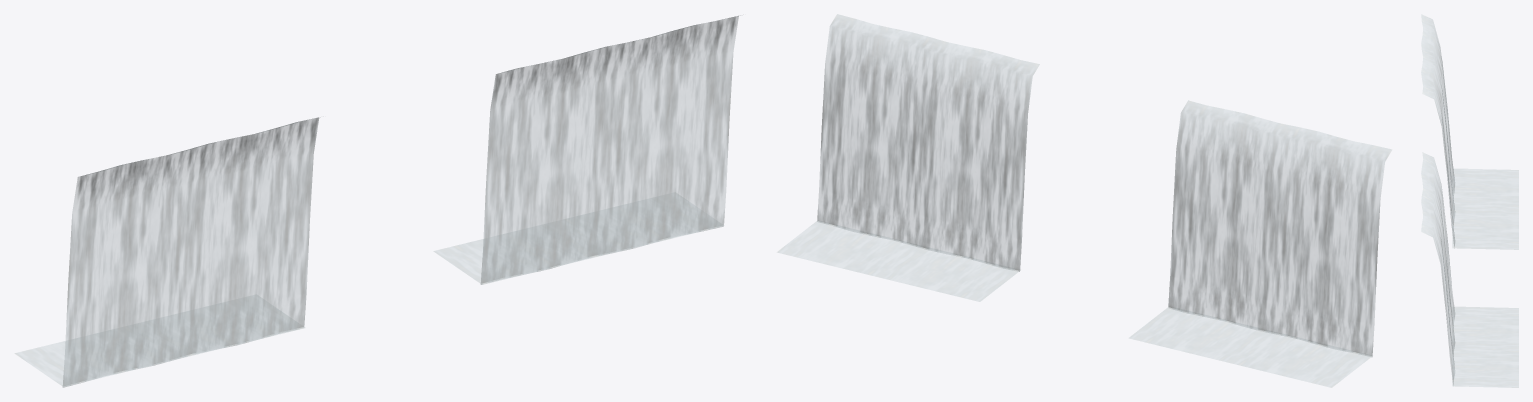
The model's file is waterfall_water.glb.
3 views of the same model, side by side, from view 1: azimuth 30°, elevation 25°; view 2: azimuth 150°, elevation 25°; view 3: azimuth 270°, elevation 25° (orthographic). The views are drawn at different scales.
Parts seen in each view (by area): view 1: waterfall_water; view 2: waterfall_water; view 3: waterfall_water.
Boxes of the visible parts, x1,y1,x2,y2 form: waterfall_water: (14,15,740,387); waterfall_water: (776,14,1391,387); waterfall_water: (1421,14,1518,387).
Bounding box in the file's own units: 24 × 8.01 × 4.55.
1 material, 1 textured.
